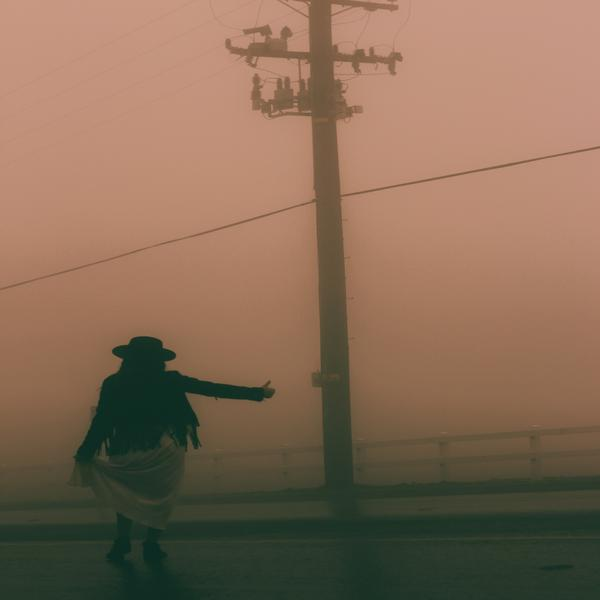utility_pole: (219, 1, 411, 164)
